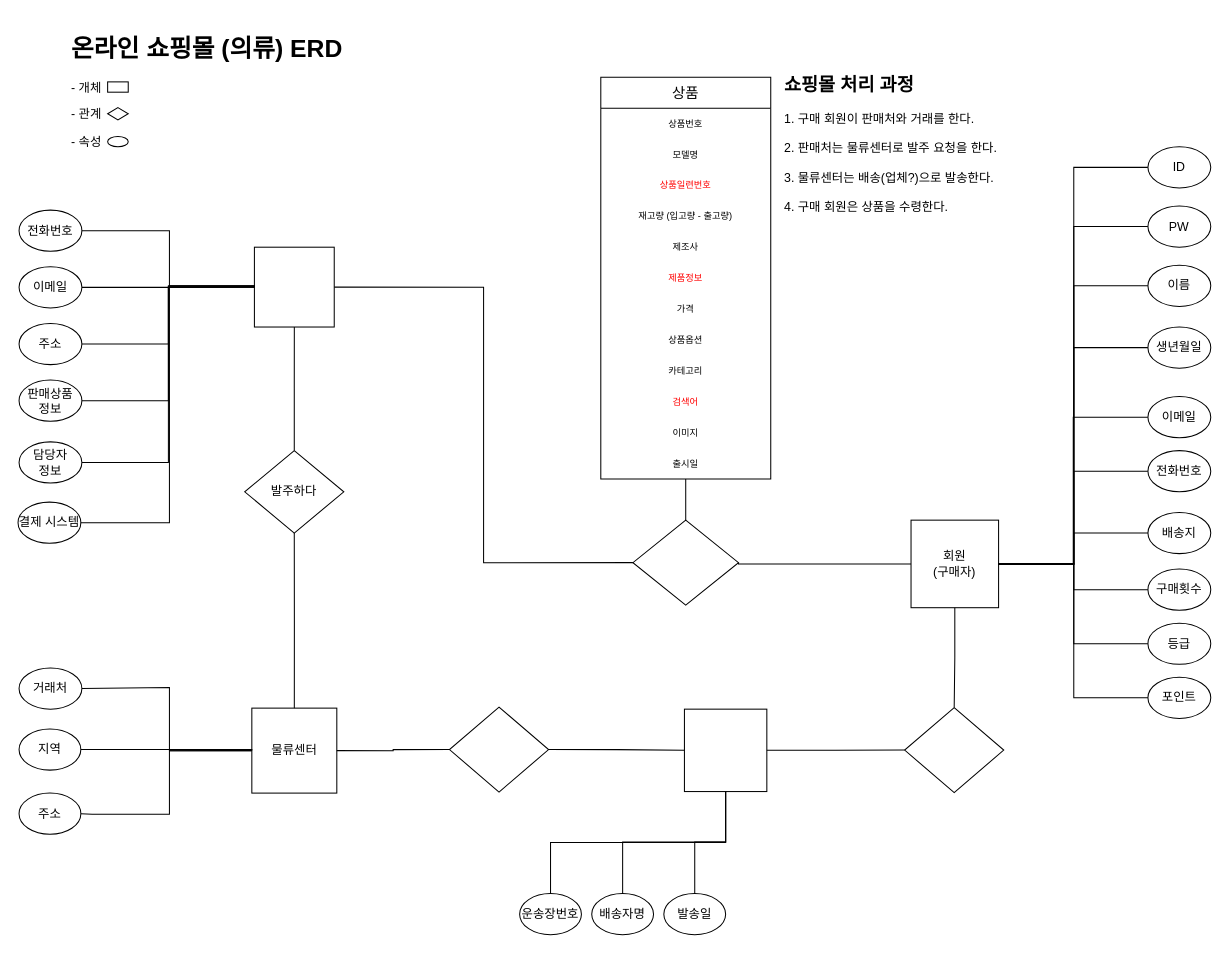
Some shapes in this 1229 by 953 pixel diagram are drawn without their labels. Each missing label, with the centre of its shape:
거래하다: the point at 685,562
발송하다: the point at 498,749
배송: the point at 725,750
수령하다: the point at 954,750
판매처: the point at 293,286
